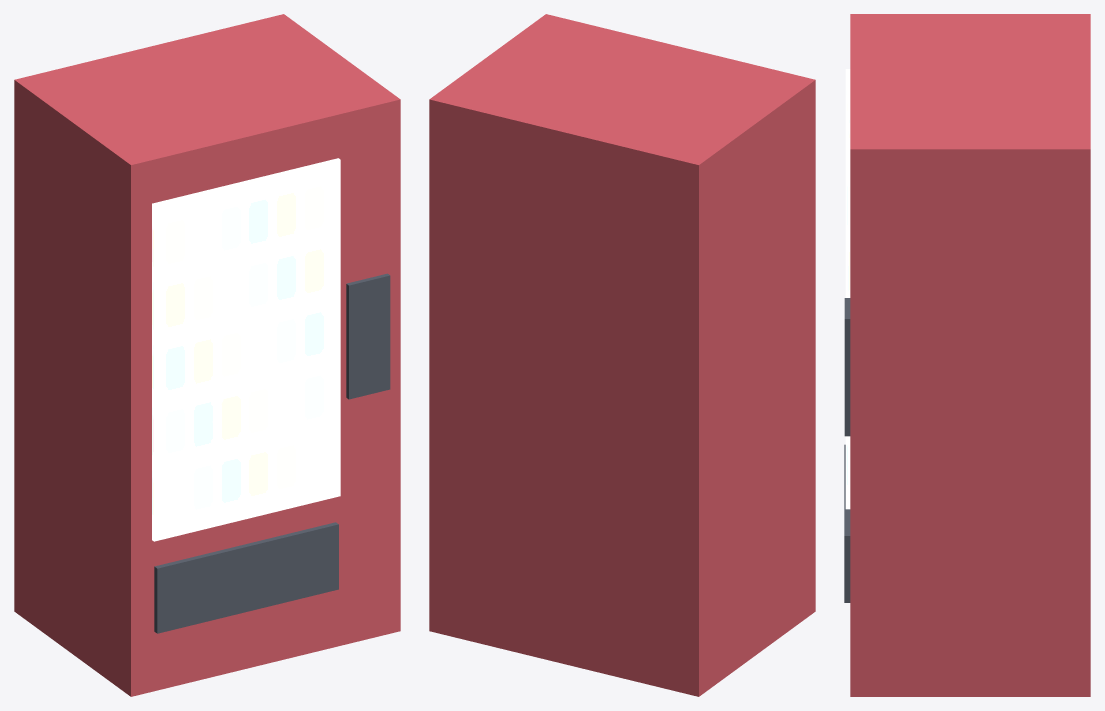
Rendered from prop_vending_machine.glb.
The picture shows the model from 3 angles, left to right: view 1: azimuth 30°, elevation 25°; view 2: azimuth 150°, elevation 25°; view 3: azimuth 270°, elevation 25°; orthographic projection. The views are drawn at different scales.
Visible parts, largest first — view 1: primary_color, screen_display, pickup_tray; view 2: primary_color; view 3: primary_color, screen_display, pickup_tray.
Part boxes in pixels (left/top/right/bottom): primary_color: left=14, top=14, right=400, bottom=696; screen_display: left=152, top=158, right=340, bottom=541; pickup_tray: left=154, top=273, right=390, bottom=633; primary_color: left=429, top=14, right=815, bottom=696; primary_color: left=850, top=14, right=1090, bottom=696; screen_display: left=845, top=69, right=850, bottom=509; pickup_tray: left=844, top=298, right=850, bottom=602.
Size of the model in its own units: 1.04 by 1.96 by 0.8.
Materials: 3 (1 with a texture image).
